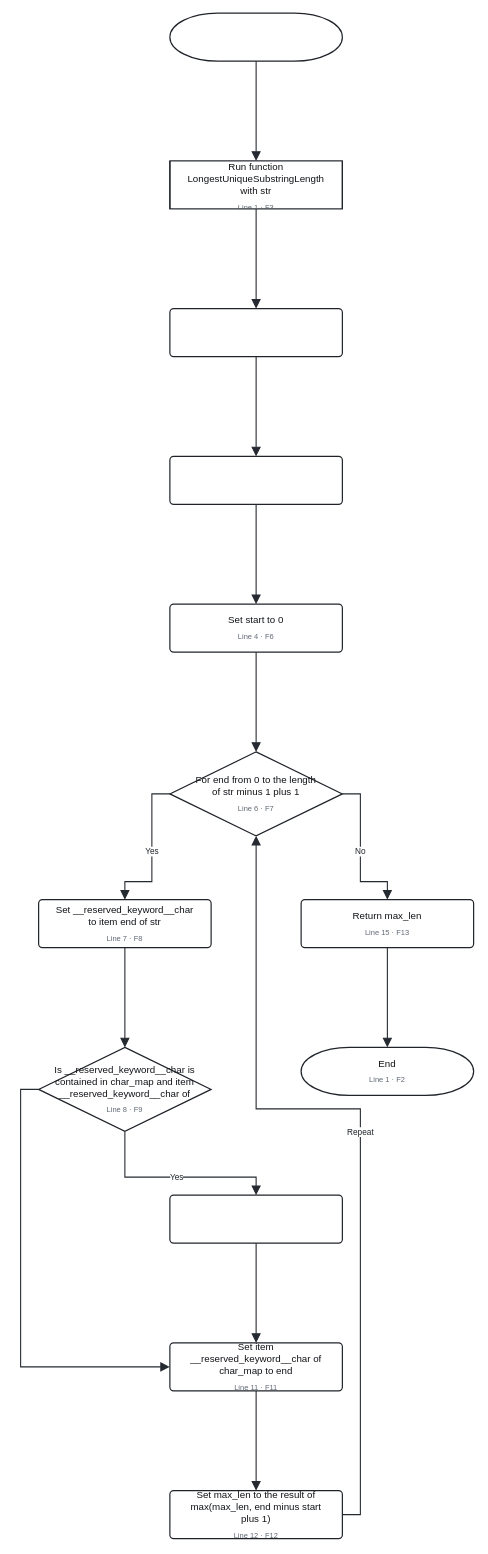
The diagram is 488 pixels wide and 1554 high, and some of its shapes have lost their labels. Here are the shapes that lost their labels. From the top down, the centre of each, then its label:
At point 256,36: "Start Line 1 · F1".
At point 256,332: "Set char_map to an empty dictionary Line 2 · F4".
At point 256,480: "Set max_len to 0 Line 3 · F5".
At point 256,1218: "Set start to item __reserved_keyword__char of char_map plus 1 Line 9 · F10".
